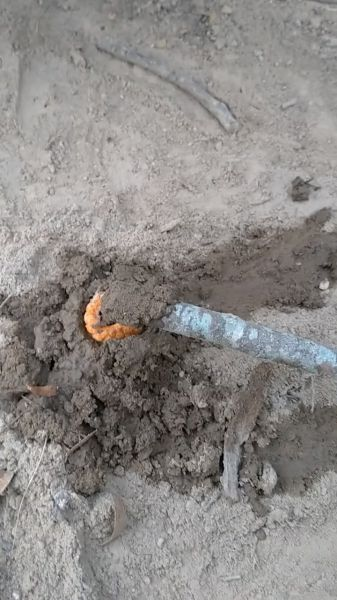eggs: (76, 284, 151, 349)
